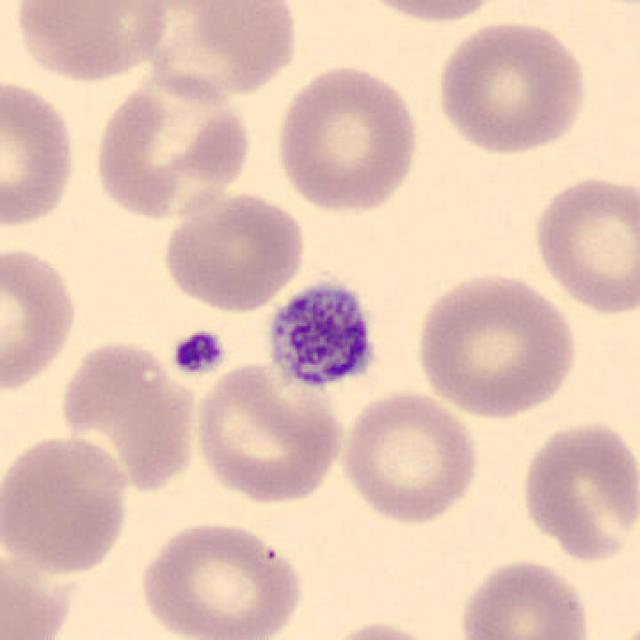Platelets: (262, 275, 382, 397), (167, 328, 228, 377)
RBC: (409, 268, 583, 420), (89, 69, 254, 224), (270, 60, 423, 217), (55, 335, 203, 495), (190, 358, 348, 506), (432, 16, 592, 159), (135, 516, 307, 640), (336, 386, 484, 527), (0, 430, 133, 576), (158, 187, 310, 314), (516, 416, 638, 564), (140, 0, 303, 102), (528, 171, 638, 317), (11, 0, 174, 85), (0, 74, 82, 231), (0, 240, 82, 396), (453, 553, 595, 640), (0, 530, 78, 640), (346, 0, 510, 26), (313, 617, 450, 640), (572, 0, 638, 16), (604, 613, 638, 640)
